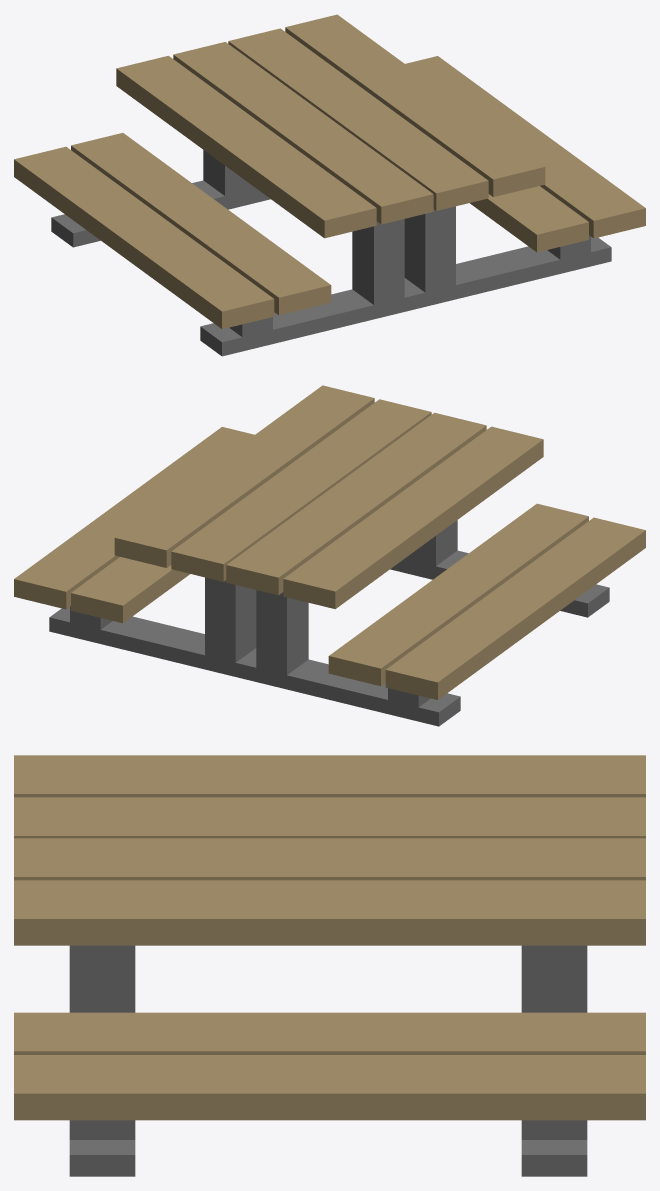
File: picnic table.fbx
The picture shows the model from 3 angles, top to bottom: view 1: azimuth 30°, elevation 25°; view 2: azimuth 150°, elevation 25°; view 3: azimuth 270°, elevation 25°; orthographic projection. The views are drawn at different scales.
Visible parts, largest first — view 1: pCube1, pCube7, pCube3, pCube10, pCube8, pCube4, pCube9, pCube6, pCube5, pCube2; view 2: pCube2, pCube7, pCube3, pCube4, pCube8, pCube10, pCube9, pCube6, pCube5, pCube1; view 3: pCube6, pCube10, pCube5, pCube7, pCube9, pCube8, pCube1, pCube2.
Boxes of the visible parts, x1,y1,x2,y2 form: pCube1: [200, 206, 611, 356]; pCube7: [116, 55, 376, 238]; pCube3: [14, 146, 274, 329]; pCube10: [285, 14, 545, 196]; pCube8: [173, 42, 433, 224]; pCube4: [71, 133, 331, 315]; pCube9: [228, 28, 488, 210]; pCube6: [405, 56, 645, 238]; pCube5: [470, 186, 588, 252]; pCube2: [51, 150, 270, 247]; pCube2: [49, 577, 460, 726]; pCube7: [283, 426, 543, 609]; pCube3: [385, 517, 645, 699]; pCube4: [328, 503, 588, 686]; pCube8: [226, 412, 486, 595]; pCube10: [114, 385, 374, 567]; pCube9: [171, 399, 431, 581]; pCube6: [14, 427, 254, 609]; pCube5: [71, 557, 189, 623]; pCube1: [390, 520, 609, 617]; pCube6: [14, 1055, 645, 1120]; pCube10: [14, 880, 645, 945]; pCube5: [14, 1012, 645, 1054]; pCube7: [14, 755, 645, 797]; pCube9: [14, 838, 645, 880]; pCube8: [14, 797, 645, 838]; pCube1: [69, 945, 135, 1176]; pCube2: [521, 945, 587, 1176].
Size of the model in its own units: 20.66 by 5.99 by 17.57.
